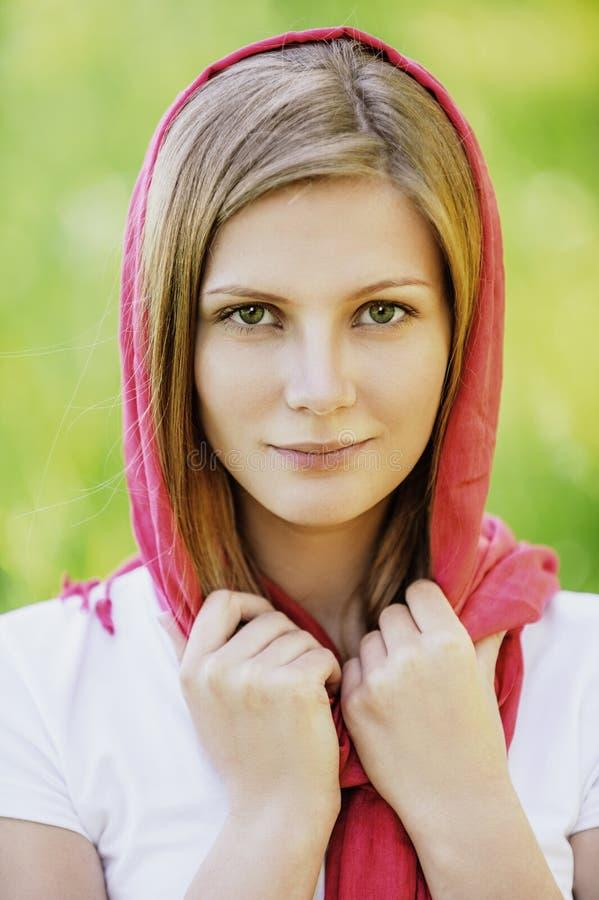person: (145, 53, 465, 553)
